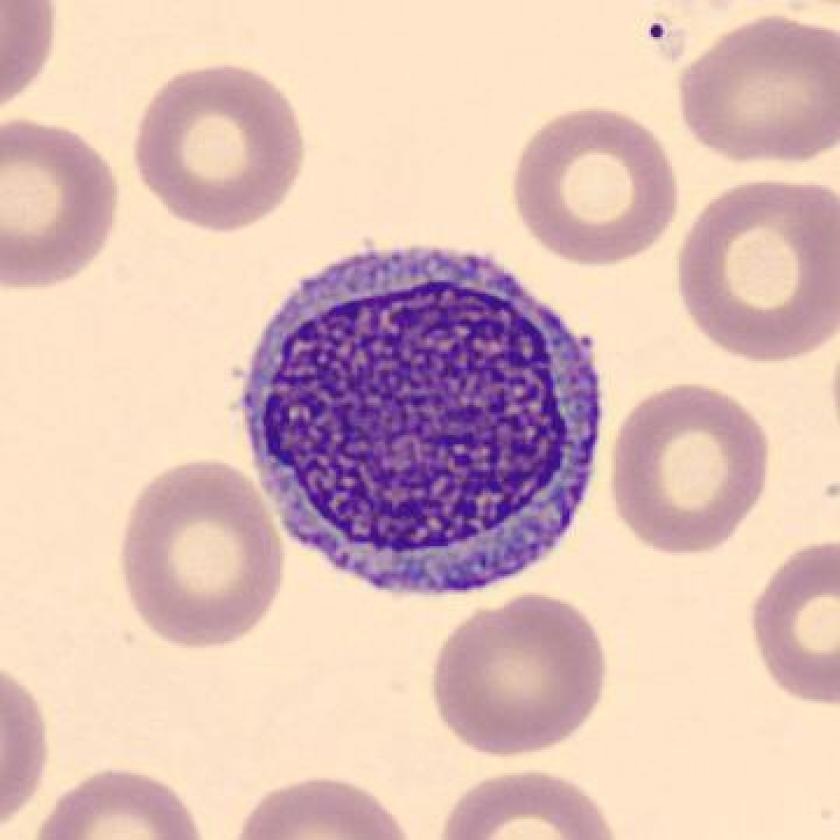monocyte: (220, 221, 622, 626)
